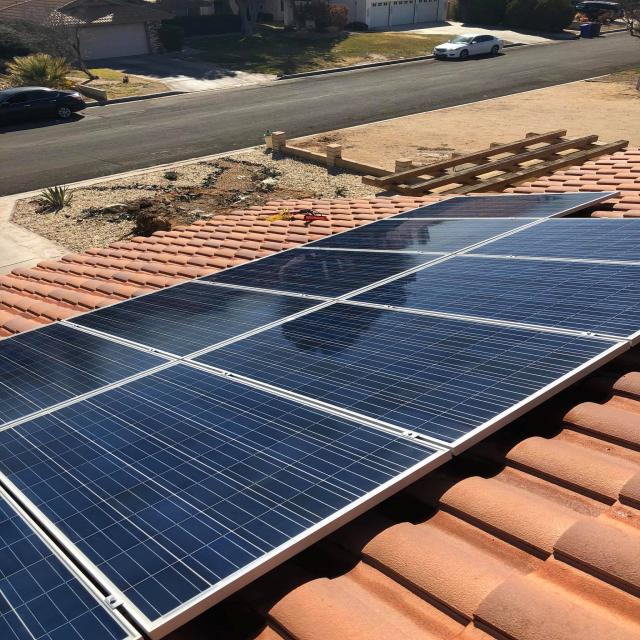clean-solar-panel: (2, 194, 638, 640)
